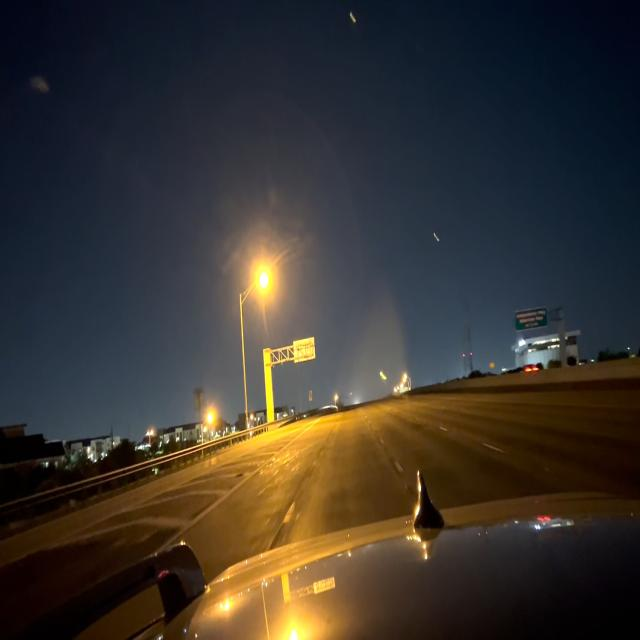back-of-sign: (294, 337, 317, 363)
